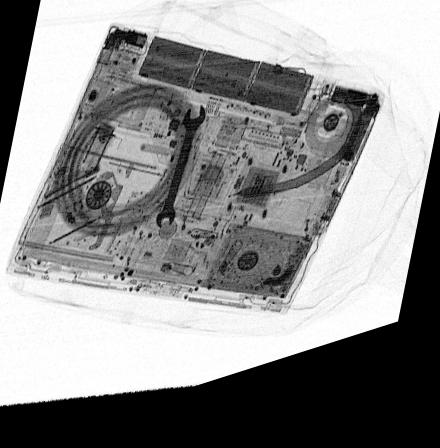Wrench: (154, 115, 207, 240)
